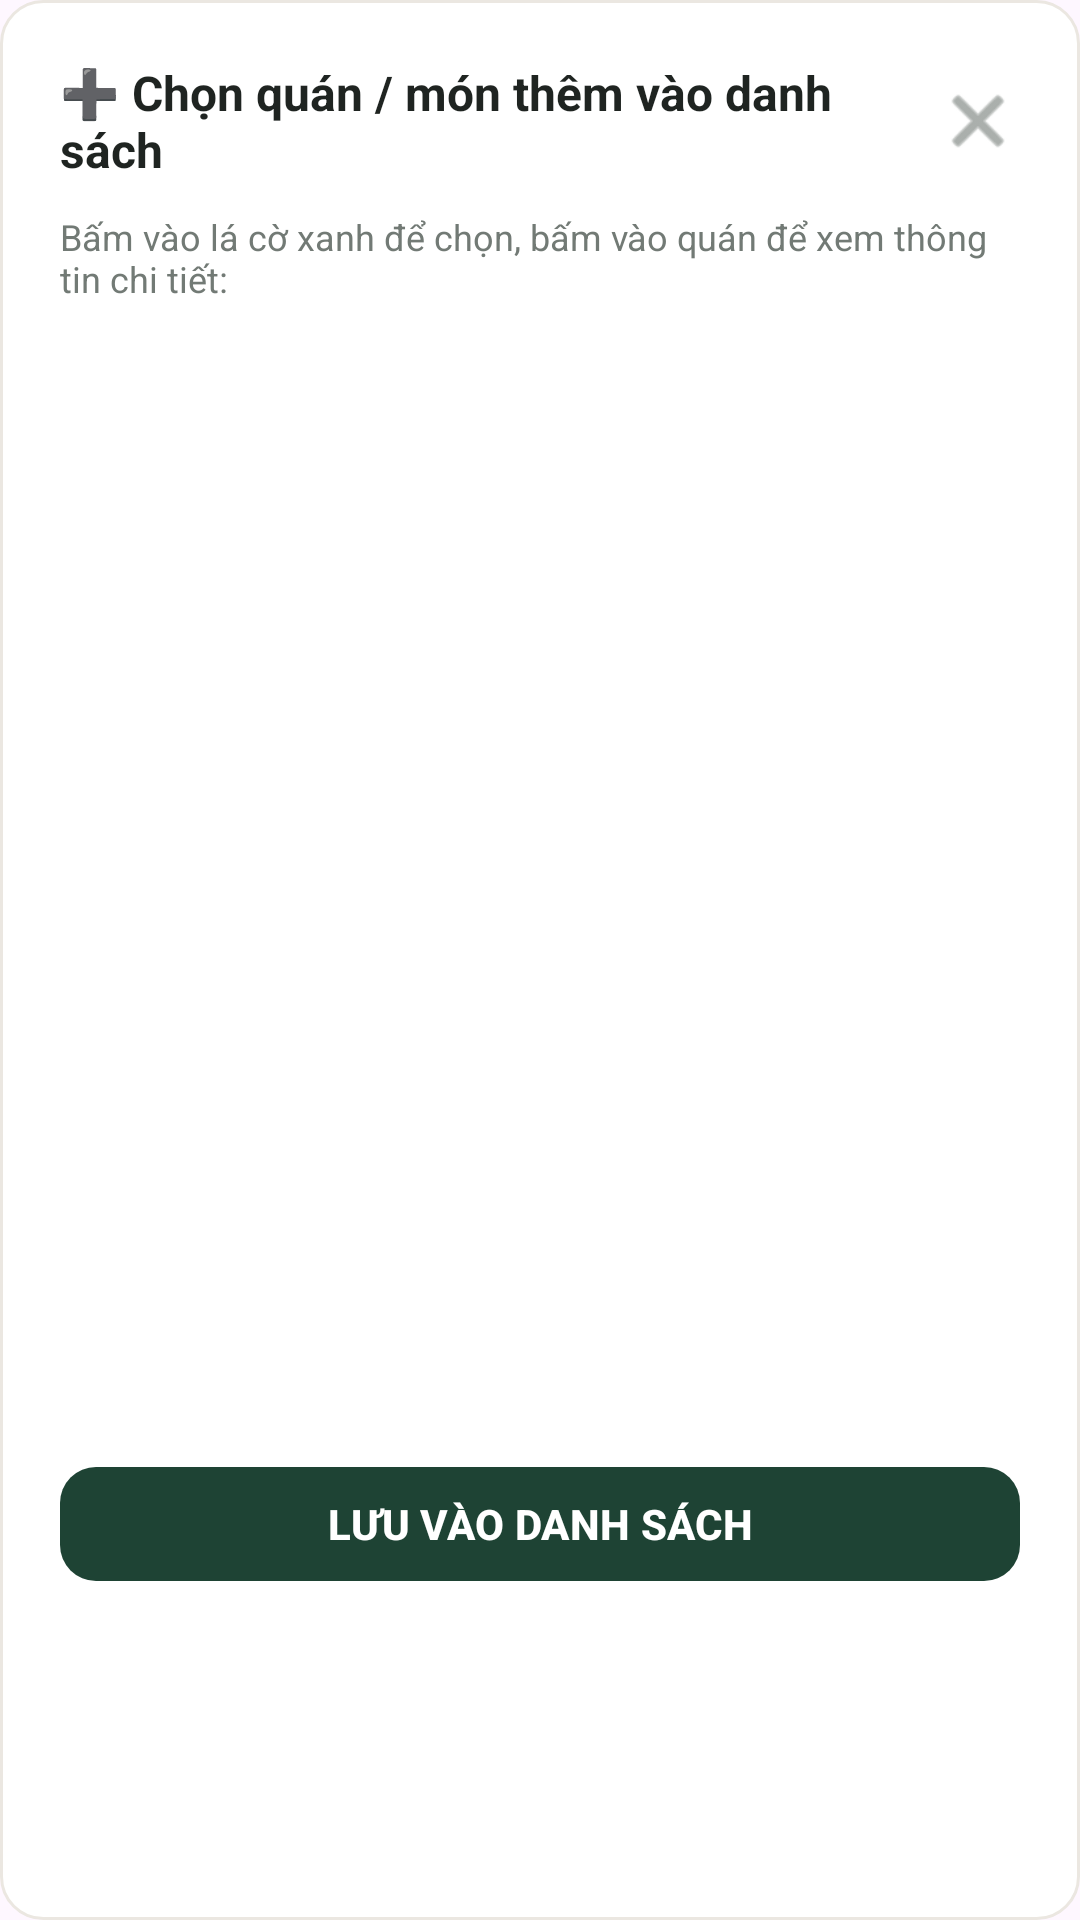

Screen size 1080×1920. Icon name, then its center in pixels as (x=x, y=y):
Close: (x=978, y=121)
